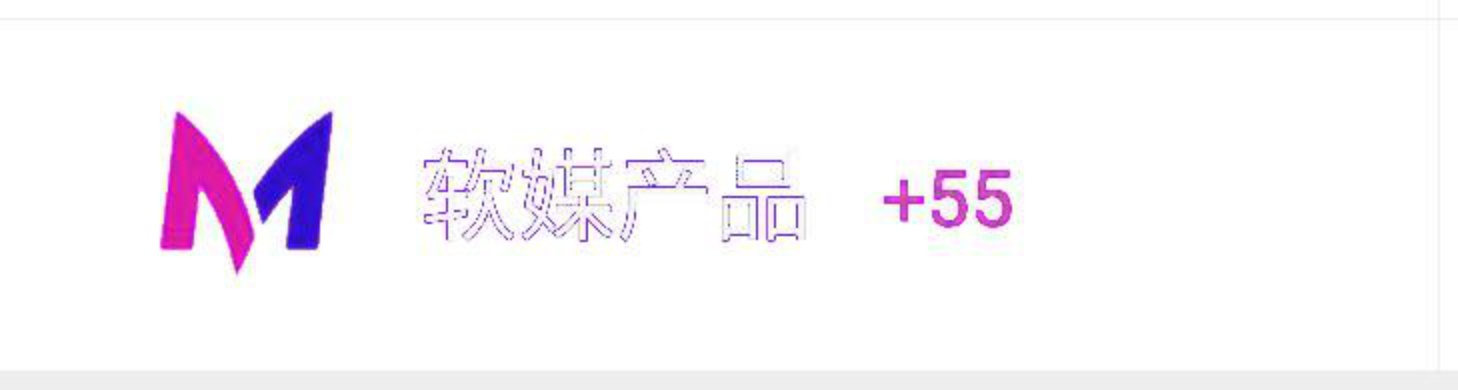CheckedTextView: (1, 1, 1457, 389)
